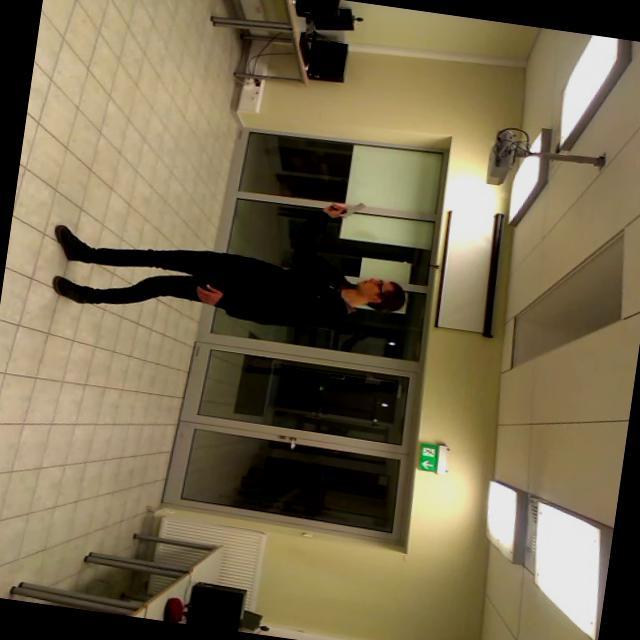handgun: (306, 188, 376, 229)
